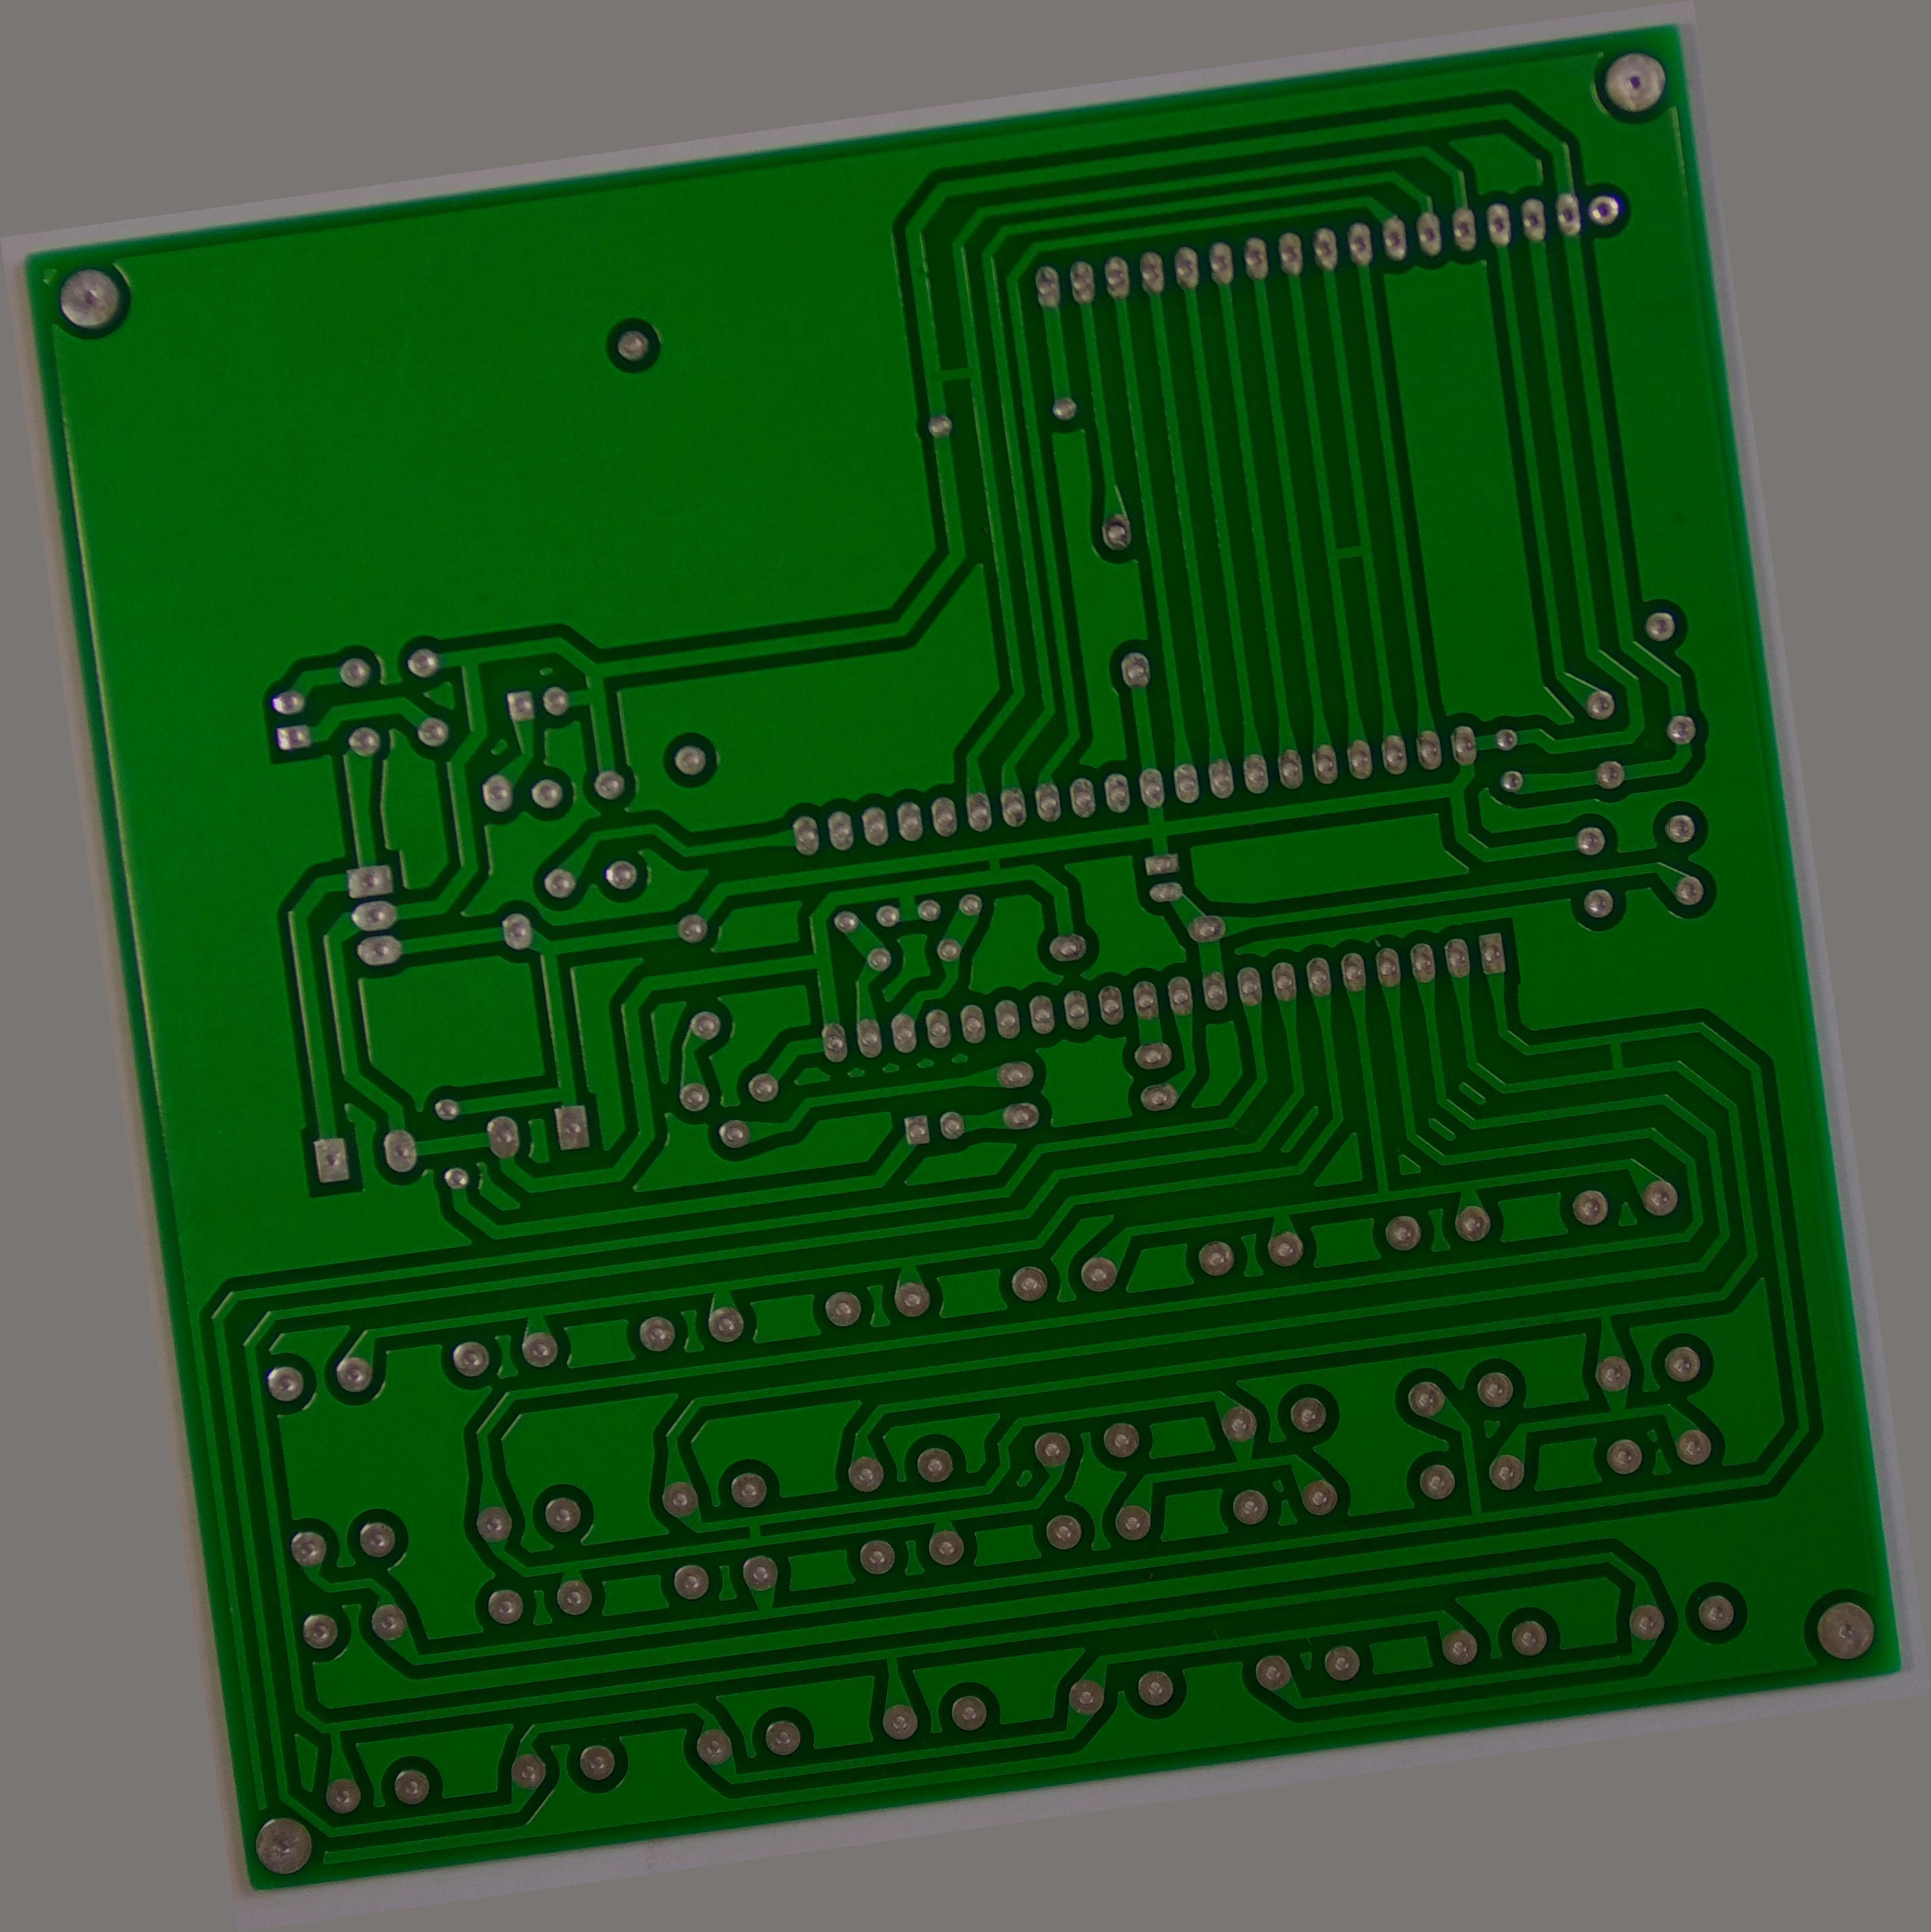short: (1590, 1017, 1639, 1088), (1316, 524, 1379, 579), (916, 347, 983, 396), (973, 835, 1020, 892), (734, 1507, 773, 1550)
